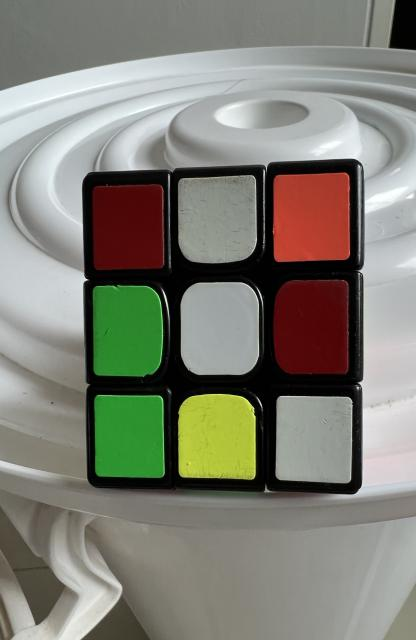Green: (92, 285, 164, 376), (94, 395, 165, 478)
Orange: (273, 172, 350, 262)
Red: (273, 280, 349, 374), (92, 184, 165, 270)
White: (181, 282, 260, 375), (178, 175, 257, 264), (275, 396, 352, 484)
Yellow: (178, 394, 256, 480)
